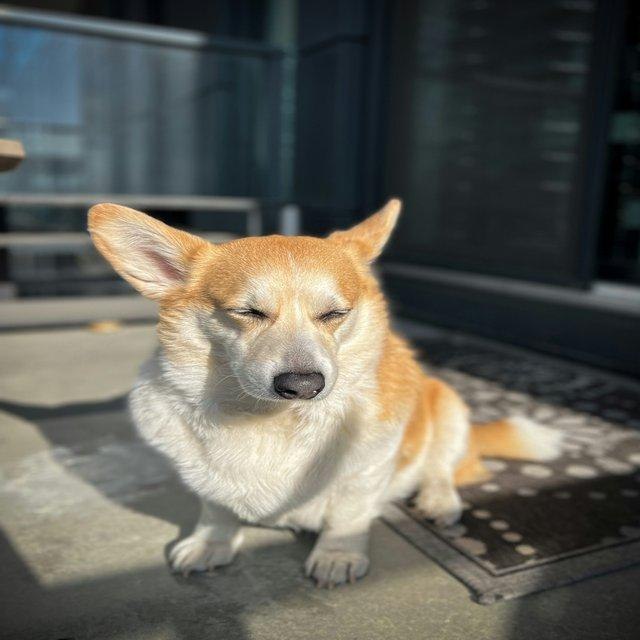corgi: (85, 195, 565, 590)
